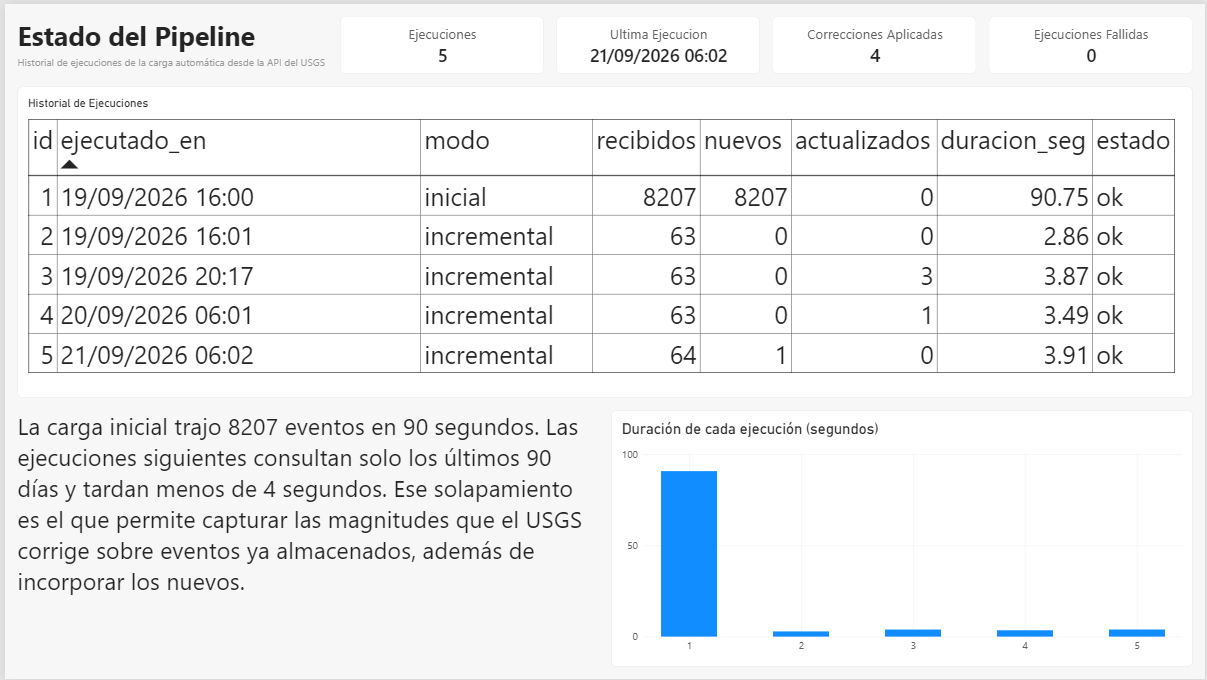

The page's visual inventory and layout, read from the dashboard file:
{"tool":"powerbi","page":{"name":"Pipeline","canvas":[1920,1080],"ordinal":2},"visuals":[{"type":"textbox","box":[20,20,388,62],"z":0},{"type":"textbox","box":[20,82,496,30],"z":1000},{"type":"cardVisual","fields":{"Data":["ingesta_log.Ejecuciones"]},"box":[536,20,326,92],"z":2000},{"type":"cardVisual","fields":{"Data":["ingesta_log.Ultima Ejecucion"]},"box":[882,20,326,92],"z":3000},{"type":"cardVisual","fields":{"Data":["ingesta_log.Correcciones Aplicadas"]},"box":[1228,20,326,92],"z":4000},{"type":"cardVisual","fields":{"Data":["ingesta_log.Ejecuciones Fallidas"]},"box":[1574,20,326,92],"z":5000},{"type":"tableEx","title":"Historial de Ejecuciones","fields":{"Values":["ingesta_log.id","ingesta_log.ejecutado_en","ingesta_log.modo","ingesta_log.recibidos","ingesta_log.nuevos","ingesta_log.actualizados","ingesta_log.duracion_seg","ingesta_log.estado"]},"box":[20,132,1880,498],"z":6000},{"type":"textbox","box":[20,650,930,410],"z":7000},{"type":"clusteredColumnChart","title":"Duración de cada ejecución (segundos)","fields":{"Category":["ingesta_log.id"],"Y":["Sum(ingesta_log.duracion_seg)"]},"box":[970,650,930,410],"z":8000}]}

Visuals, with their boxes in screenshot pixels (x1, y1, x2, y2), scaled from the page's 1920x1080 canvas onto the 1207x680 screenshot:
textbox: Rect(13, 13, 256, 52)
textbox: Rect(13, 52, 324, 71)
cardVisual - ingesta_log.Ejecuciones: Rect(337, 13, 542, 71)
cardVisual - ingesta_log.Ultima Ejecucion: Rect(554, 13, 759, 71)
cardVisual - ingesta_log.Correcciones Aplicadas: Rect(772, 13, 977, 71)
cardVisual - ingesta_log.Ejecuciones Fallidas: Rect(989, 13, 1194, 71)
"Historial de Ejecuciones" tableEx: Rect(13, 83, 1194, 397)
textbox: Rect(13, 409, 597, 667)
"Duración de cada ejecución (segundos)" clusteredColumnChart: Rect(610, 409, 1194, 667)
